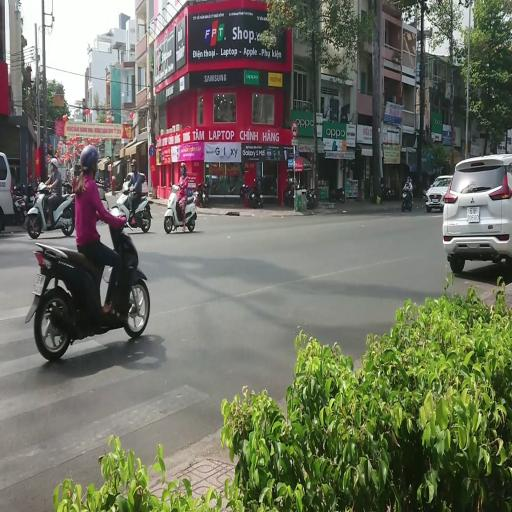bikes: (25, 214, 150, 362), (26, 177, 75, 238), (60, 183, 107, 236), (115, 180, 152, 232), (164, 181, 197, 233), (12, 180, 37, 226), (284, 178, 315, 209), (240, 177, 263, 208), (284, 177, 299, 206), (194, 182, 208, 207), (401, 185, 413, 211), (95, 178, 108, 200), (330, 186, 346, 202), (306, 187, 316, 208), (111, 174, 116, 196)
helmet: (80, 144, 98, 172), (74, 163, 81, 176), (180, 162, 186, 176), (131, 158, 137, 172), (50, 158, 58, 168), (122, 182, 129, 193), (38, 182, 46, 191), (46, 154, 52, 163), (406, 176, 410, 182), (254, 178, 257, 185), (112, 175, 115, 181)
